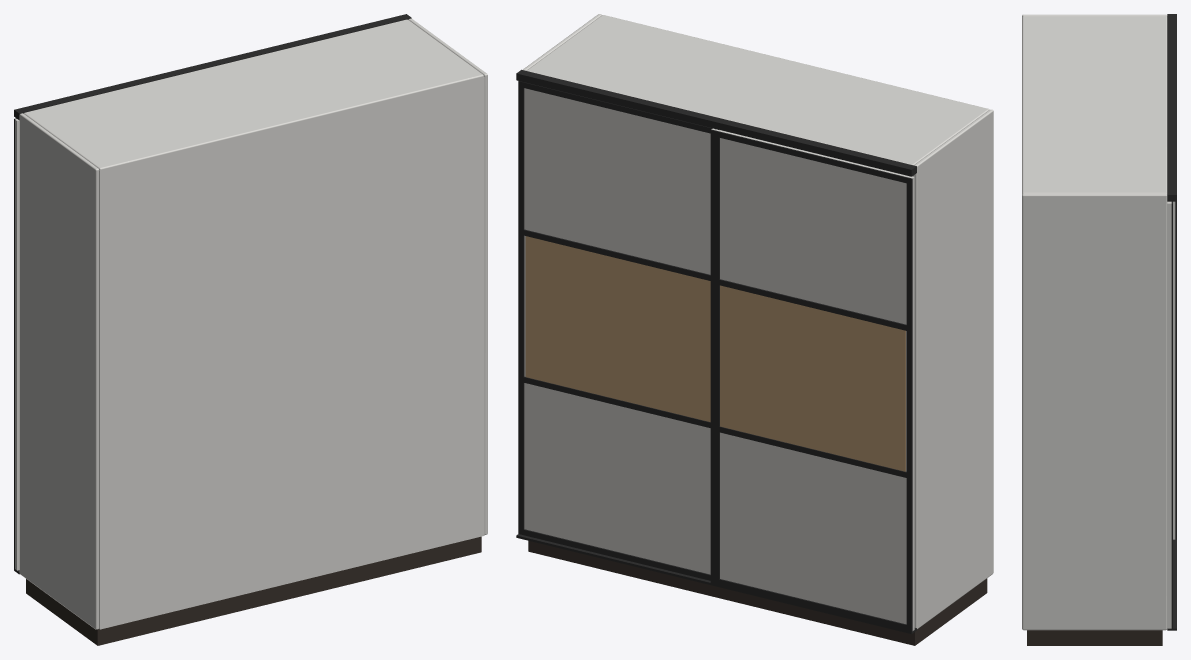
The picture shows the model from 3 angles, left to right: view 1: azimuth 30°, elevation 25°; view 2: azimuth 150°, elevation 25°; view 3: azimuth 270°, elevation 25°; orthographic projection. The views are drawn at different scales.
Visible parts, largest first — view 1: side-left, plinth, track-top; view 2: side-left, front-inset, track-top, plinth; view 3: side-left, track-top, plinth.
Part boxes in pixels (x1,y1,x2,y2): side-left: [15, 18, 487, 629]; plinth: [26, 536, 481, 645]; track-top: [14, 14, 411, 574]; side-left: [523, 14, 993, 630]; front-inset: [525, 236, 905, 471]; track-top: [516, 69, 916, 634]; plinth: [528, 540, 987, 645]; side-left: [1022, 14, 1175, 630]; track-top: [1167, 14, 1176, 630]; plinth: [1027, 630, 1162, 645].
Bounding box in the file's own units: 1.8 × 2.1 × 0.65.
